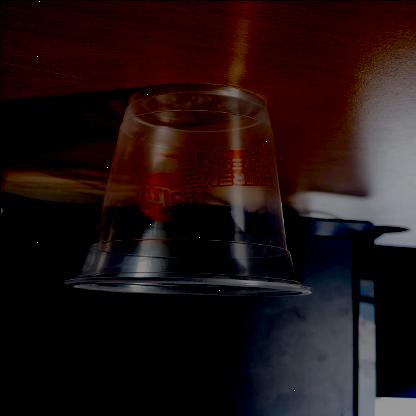Others: (64, 83, 312, 298)
